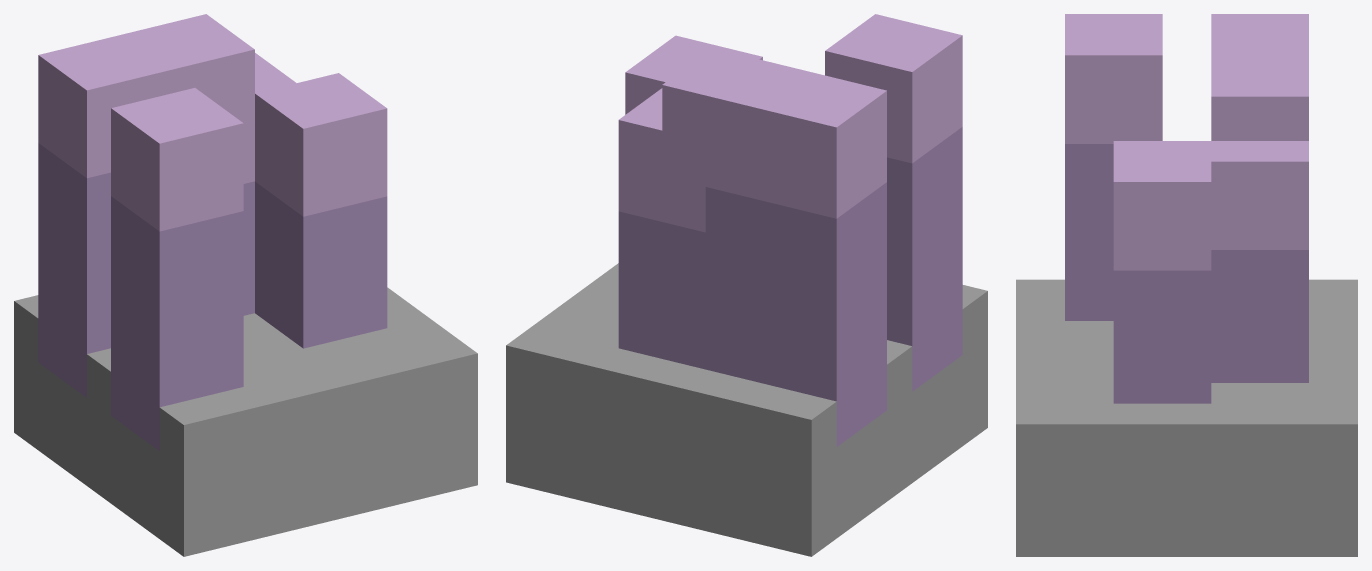
The model's file is amatista_04.glb.
The picture shows the model from 3 angles, left to right: view 1: azimuth 30°, elevation 25°; view 2: azimuth 150°, elevation 25°; view 3: azimuth 270°, elevation 25°; orthographic projection. The views are drawn at different scales.
Visible parts, largest first — view 1: amatista_04; view 2: amatista_04; view 3: amatista_04.
Boxes of the visible parts, <box> form: amatista_04: <box>14,14,477,556</box>; amatista_04: <box>506,14,987,556</box>; amatista_04: <box>1016,14,1357,556</box>.
Bounding box in the file's own units: 0.7 × 0.9 × 0.7.
